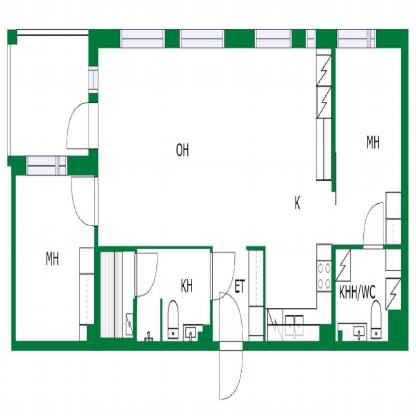door: (218, 288, 243, 403), (206, 250, 237, 300), (73, 173, 98, 230), (361, 192, 384, 253), (64, 102, 90, 152), (134, 252, 158, 300)
window: (179, 28, 225, 48), (27, 154, 67, 177), (120, 29, 165, 47), (254, 27, 291, 48), (337, 29, 376, 46), (89, 66, 98, 93), (305, 28, 316, 49)
zone: (98, 47, 331, 347), (333, 47, 402, 248), (15, 176, 94, 344), (8, 33, 88, 159), (136, 247, 210, 340), (336, 246, 404, 343), (212, 249, 263, 345), (101, 250, 134, 338)
